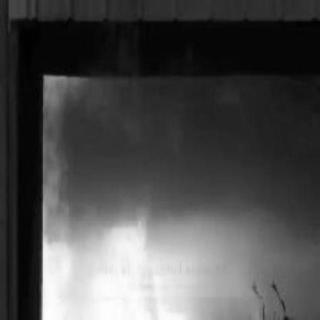Fire: (46, 177, 226, 317)
